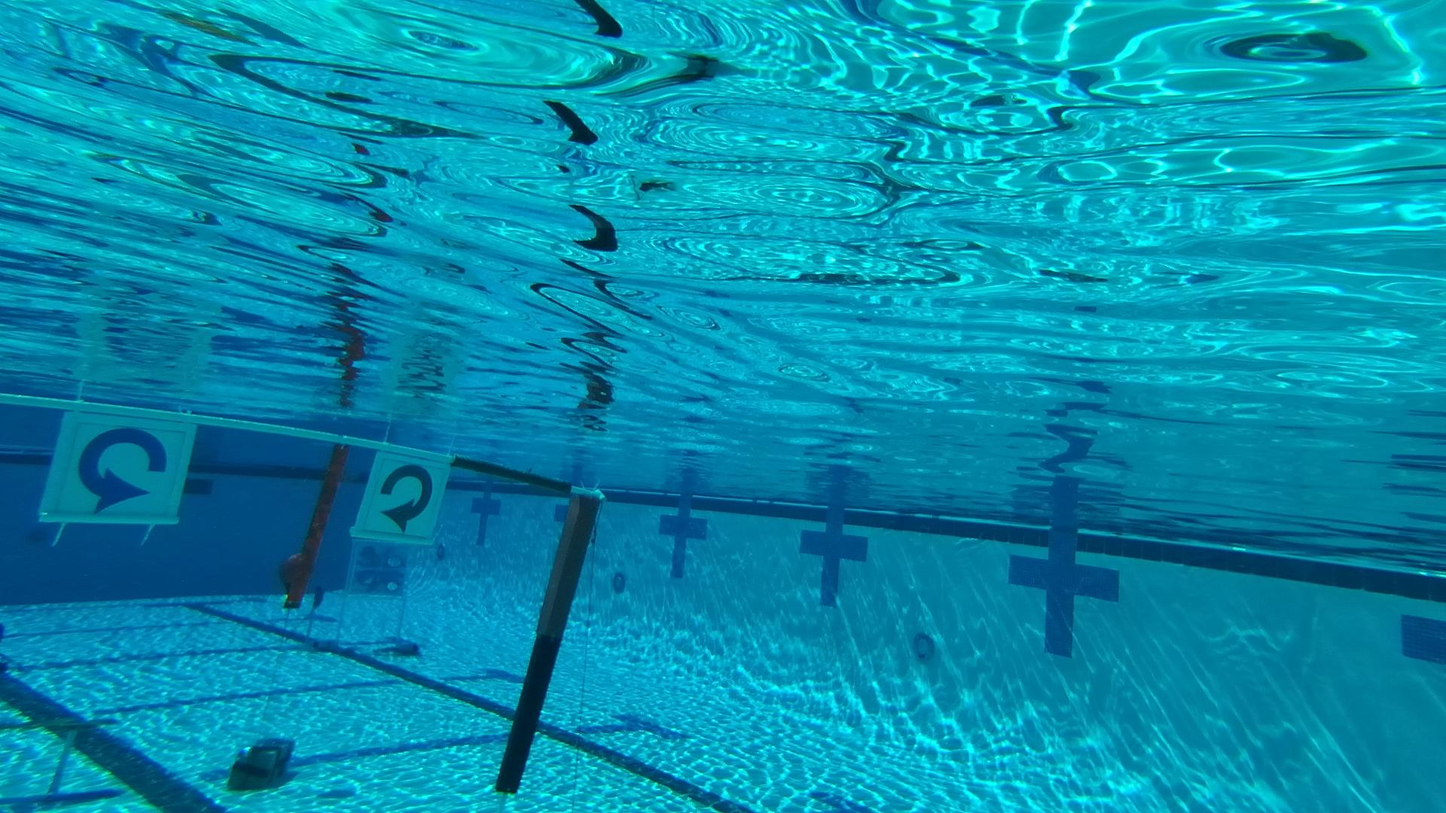blue-gate-sign: (34, 403, 199, 540)
buoy: (278, 554, 315, 596)
path: (0, 714, 116, 801)
red octagon: (386, 555, 405, 571), (384, 580, 401, 595), (361, 570, 375, 587), (363, 546, 376, 561)
red-gate-sign: (369, 449, 453, 553)
